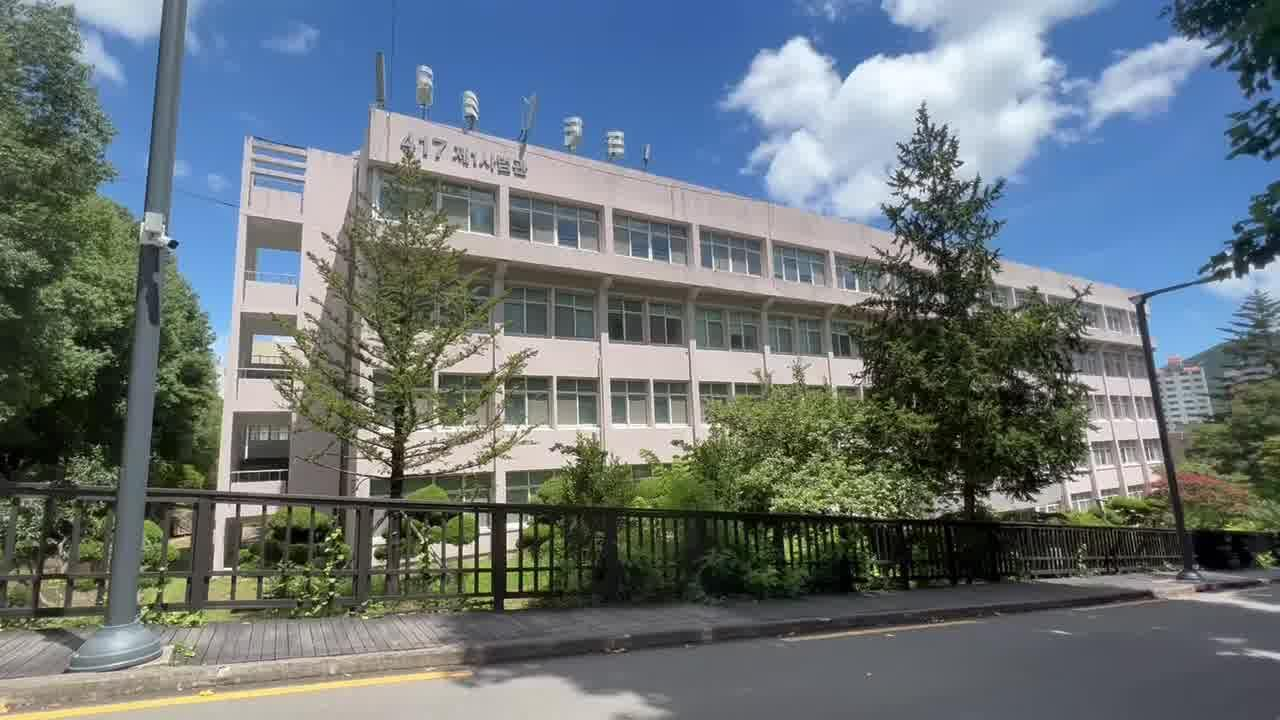building: (243, 91, 782, 456)
